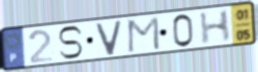0: (171, 12, 195, 49)
2: (26, 28, 55, 65)
H: (198, 8, 232, 47)
M: (126, 15, 162, 55)
S: (56, 25, 85, 61)
V: (94, 18, 125, 57)
